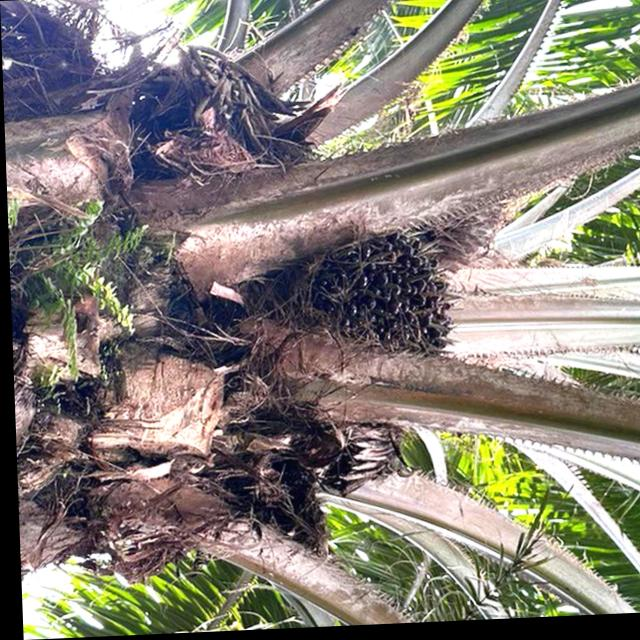almost: (293, 229, 461, 365)
